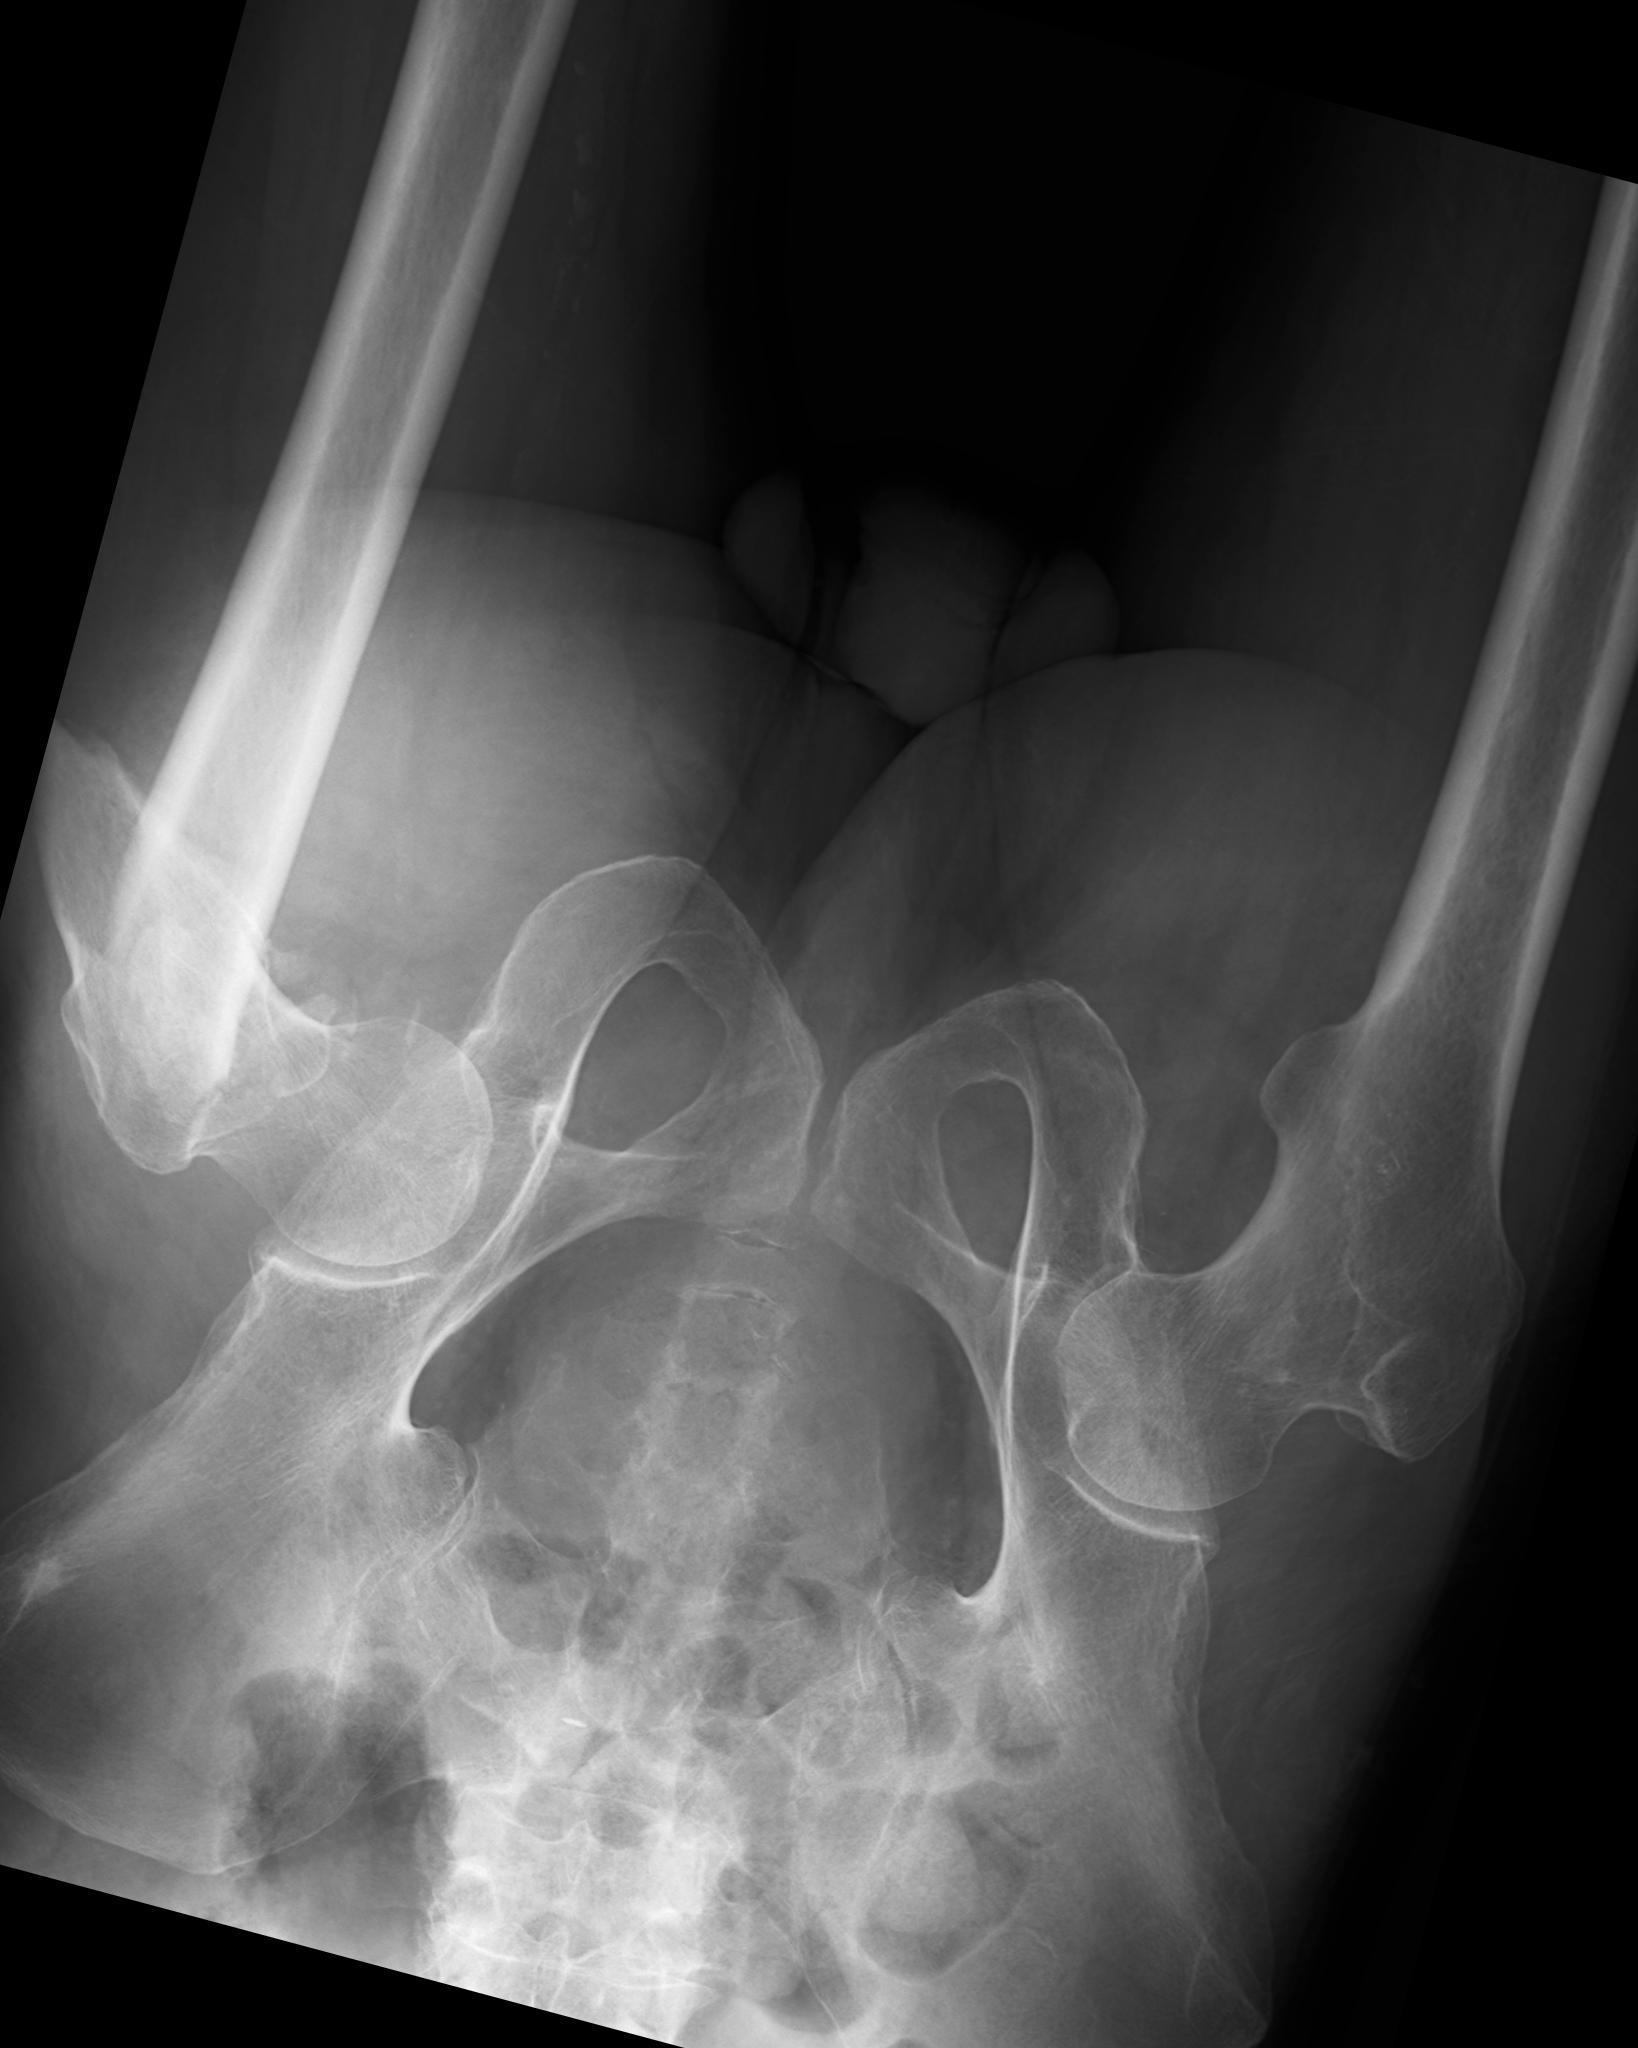fractured: (27, 717, 237, 1140)
